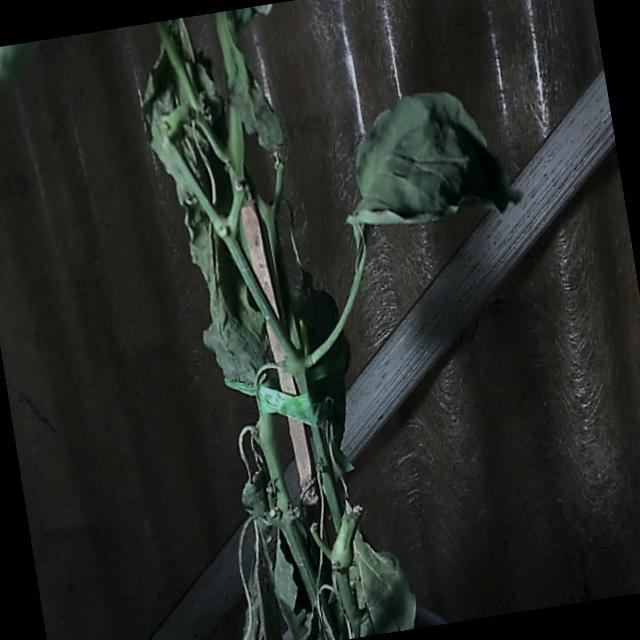Leaf: (340, 77, 527, 239)
